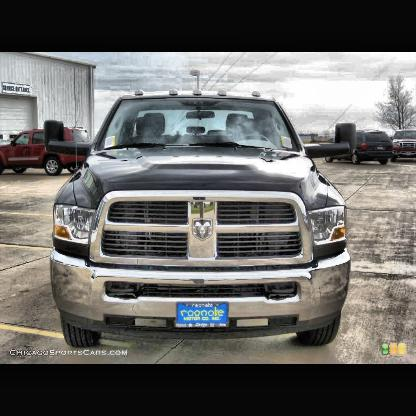Dodge Ram Pickup 3500 Crew Cab 2010: (46, 93, 351, 364)
